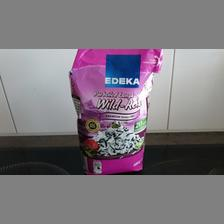Reis: (67, 48, 163, 174)
